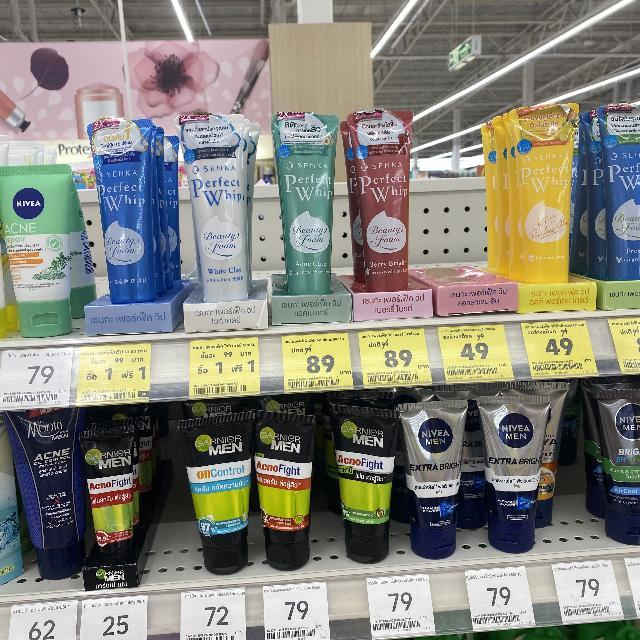Squeeze Tube: (4, 86, 640, 571)
